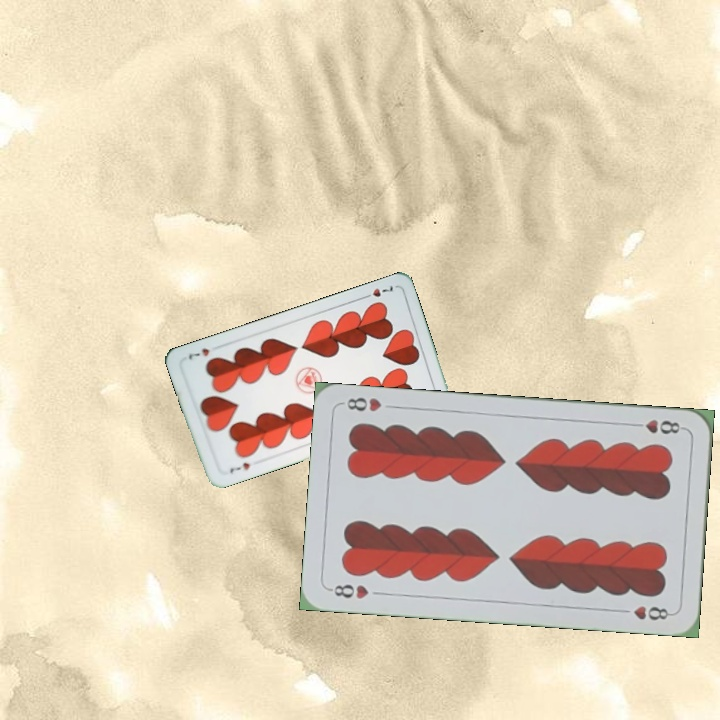H7: (358, 281, 396, 302), (226, 458, 252, 476)
H8: (628, 416, 687, 437), (325, 580, 371, 601)
